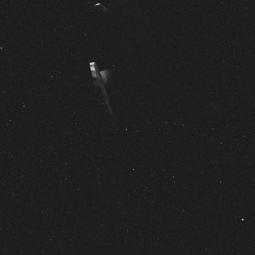cheops: (66, 0, 238, 142)
